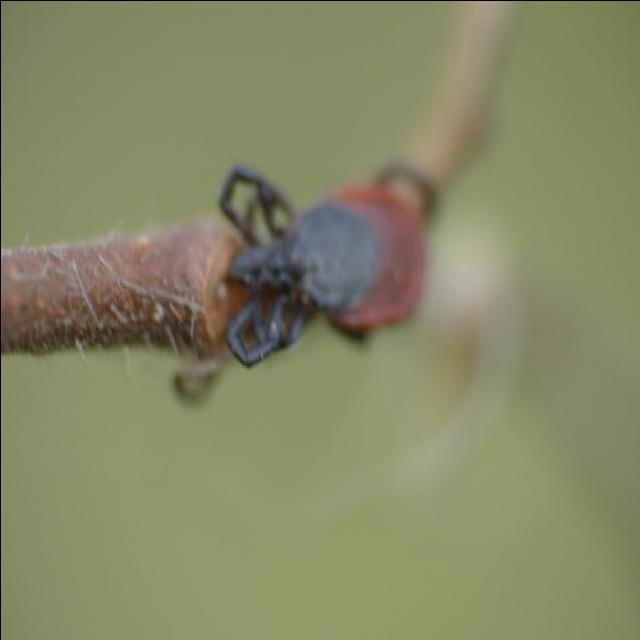Ixodes Ricinus-F: (218, 162, 435, 367)
